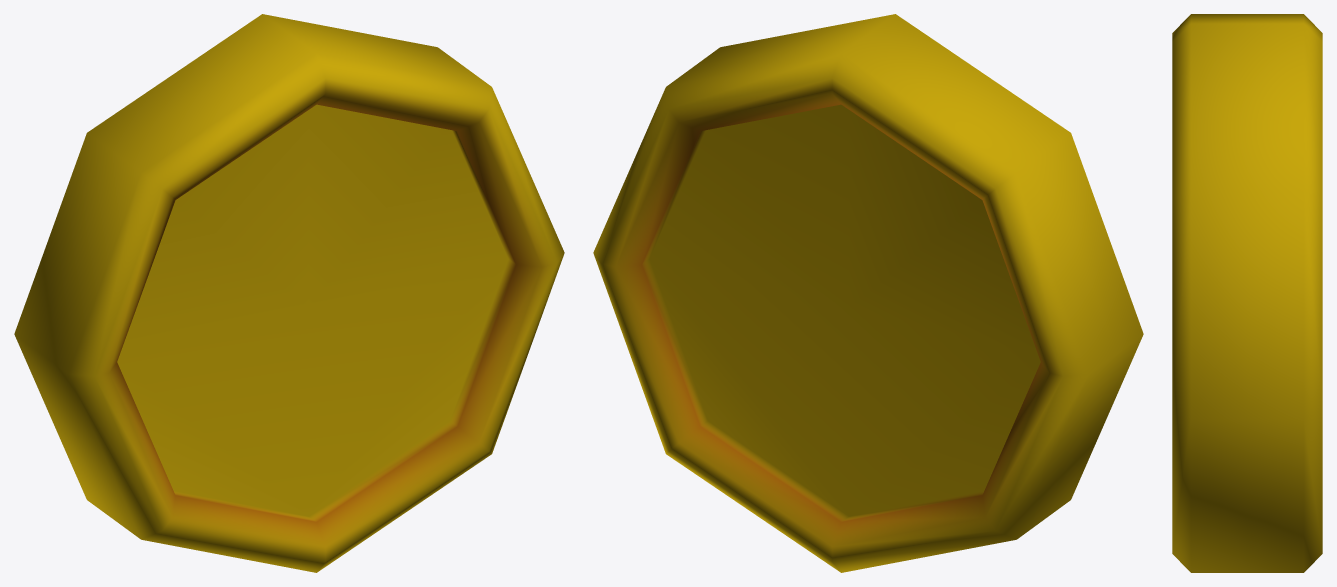
File: Item_Coin_SM.fbx
The picture shows the model from 3 angles, left to right: view 1: azimuth 30°, elevation 25°; view 2: azimuth 150°, elevation 25°; view 3: azimuth 270°, elevation 25°; orthographic projection. The views are drawn at different scales.
Parts seen in each view (by area): view 1: Item_Coin_SM; view 2: Item_Coin_SM; view 3: Item_Coin_SM.
Boxes of the visible parts, box(x1,y1,x2,y2) form: Item_Coin_SM: box(14, 14, 564, 572); Item_Coin_SM: box(593, 14, 1143, 572); Item_Coin_SM: box(1172, 14, 1322, 572).
Size of the model in its own units: 65.44 by 65.44 by 16.55.
